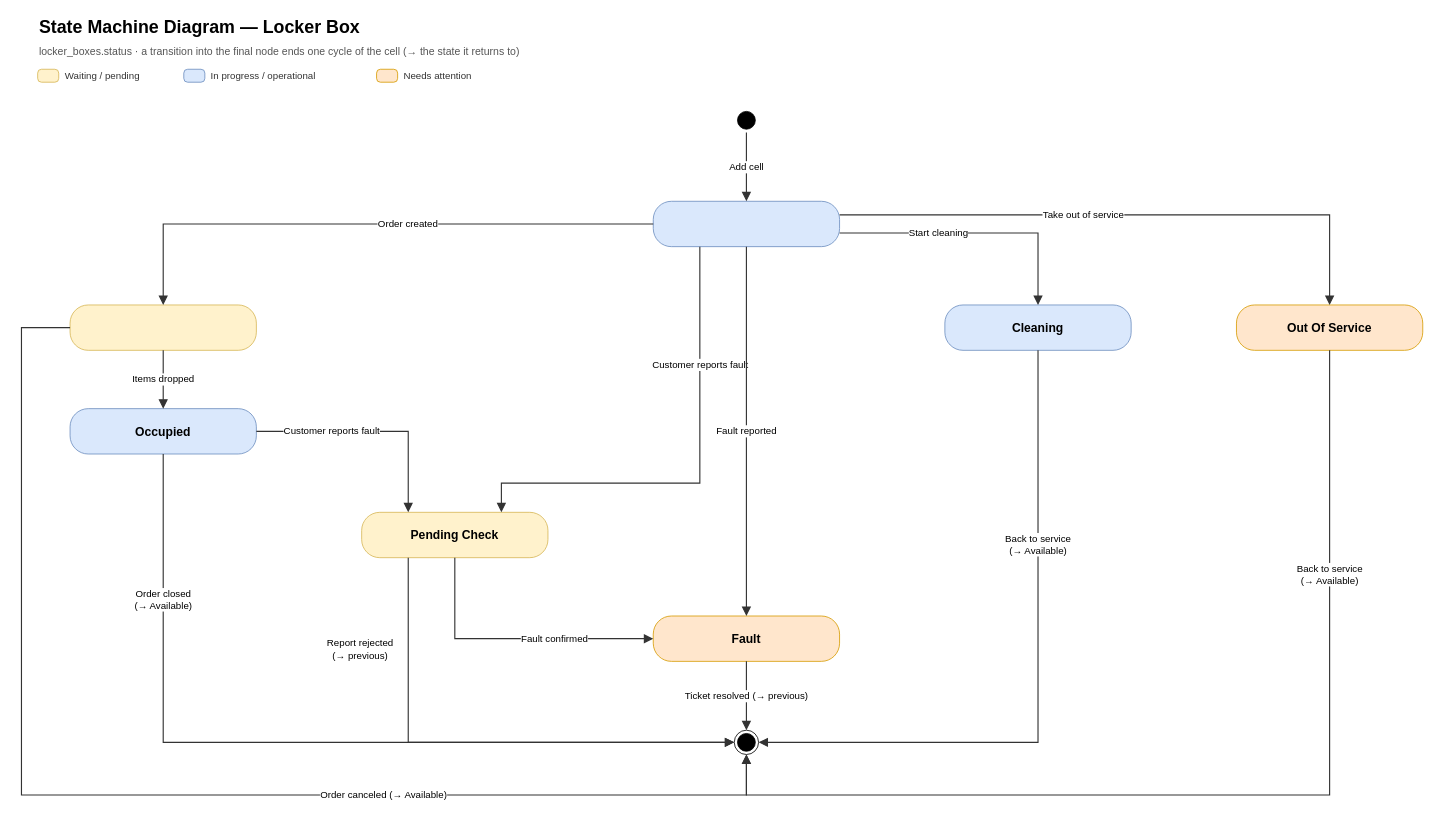
This 1438x817 diagram has some shape labels left out. Each missing label, with the box of its shape:
Available: (652, 200, 840, 247)
Reserved: (69, 304, 256, 350)
